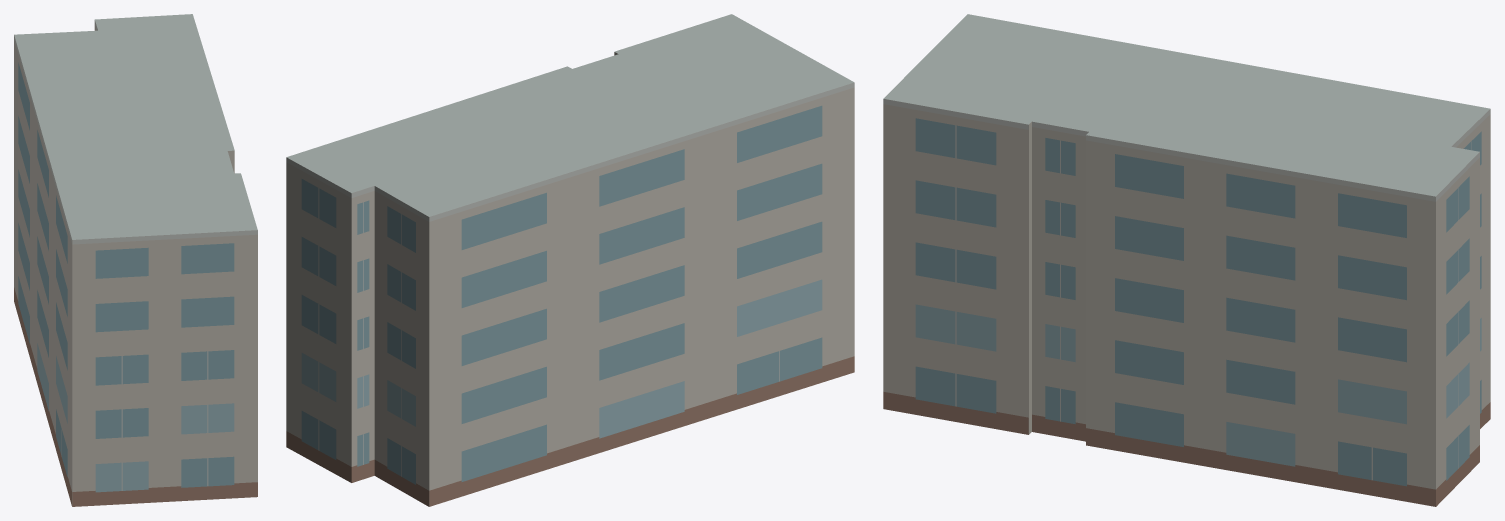
The model's file is survey-upis-32904215.glb.
The picture shows the model from 3 angles, left to right: view 1: azimuth 30°, elevation 25°; view 2: azimuth 150°, elevation 25°; view 3: azimuth 270°, elevation 25°; orthographic projection. The views are drawn at different scales.
Parts seen in each view (by area): view 1: survey-upis-32904215.tmp; view 2: survey-upis-32904215.tmp; view 3: survey-upis-32904215.tmp.
Part boxes in pixels (x1=…): survey-upis-32904215.tmp: x1=14, y1=14, x2=257, y2=506; survey-upis-32904215.tmp: x1=286, y1=14, x2=854, y2=506; survey-upis-32904215.tmp: x1=883, y1=14, x2=1490, y2=506.
Size of the model in its own units: 18.06 by 14.3 by 25.38.
